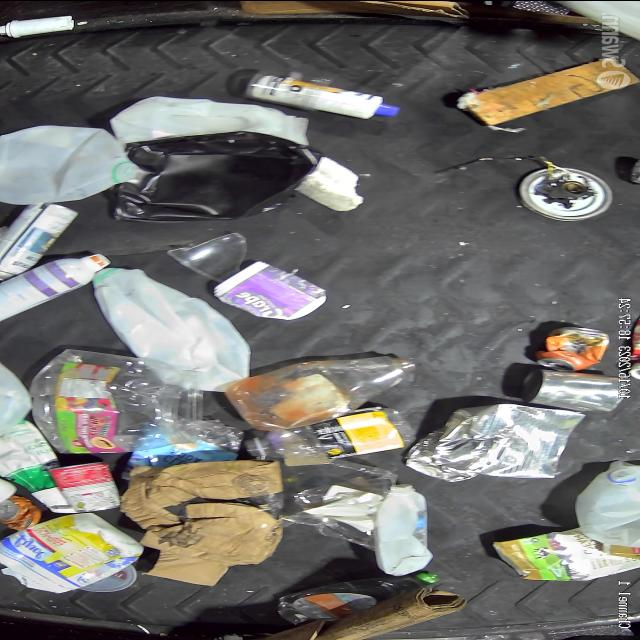can: (407, 403, 585, 482), (0, 201, 81, 280), (521, 369, 631, 411), (50, 460, 122, 512), (534, 324, 612, 371), (0, 494, 42, 529)
milk_jug: (93, 266, 251, 392), (0, 124, 138, 204), (110, 94, 320, 145), (575, 460, 640, 546), (374, 483, 432, 575)
non_white_jug: (110, 130, 322, 220), (0, 511, 145, 592), (0, 419, 79, 514), (492, 530, 640, 580)
plastic_bottle: (223, 354, 418, 430), (248, 405, 416, 458), (277, 570, 439, 620)
